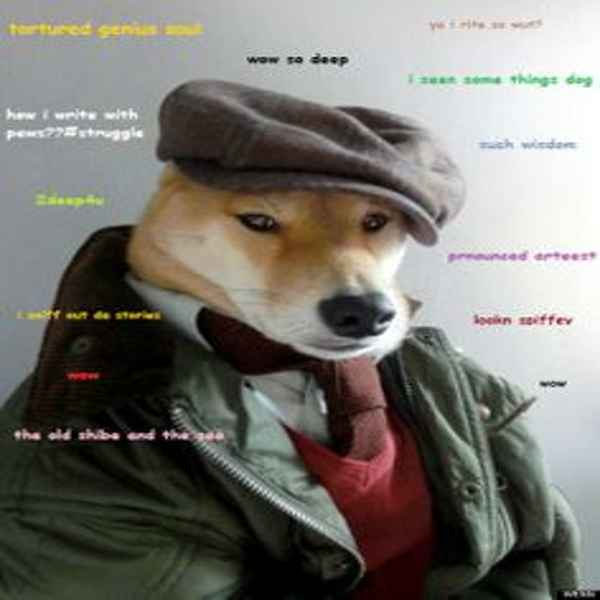doge: (151, 158, 433, 371)
